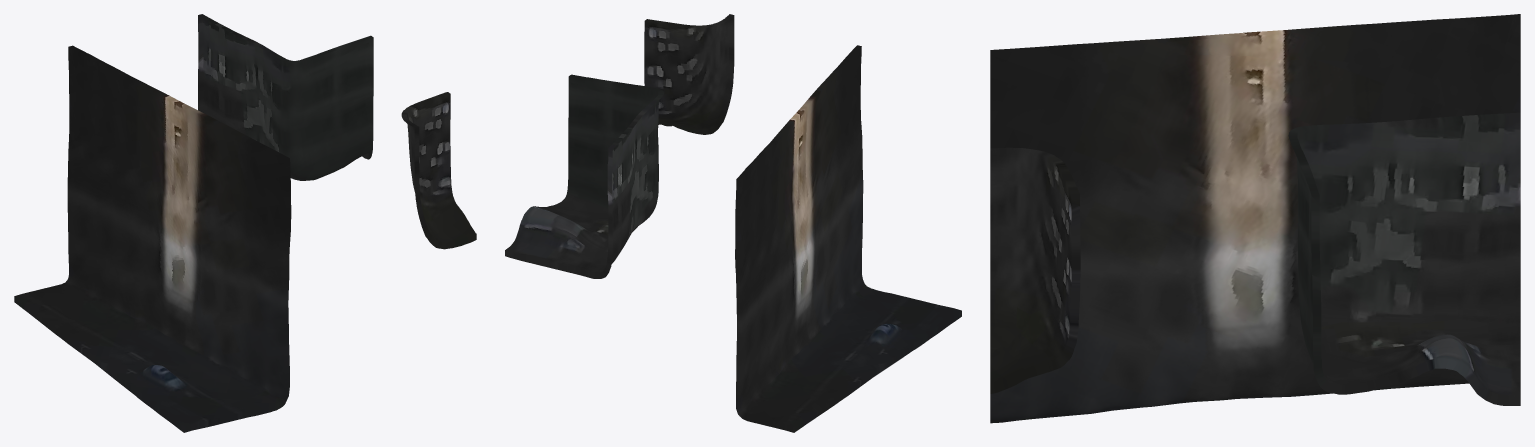
The model's file is z20-167766-405236-h0-yup-uvflip-v3-world.glb.
The picture shows the model from 3 angles, left to right: view 1: azimuth 30°, elevation 25°; view 2: azimuth 150°, elevation 25°; view 3: azimuth 270°, elevation 25°; orthographic projection. The views are drawn at different scales.
Bounding box in the file's own units: 30.16 × 24.56 × 30.32.
1 material, 1 textured.
